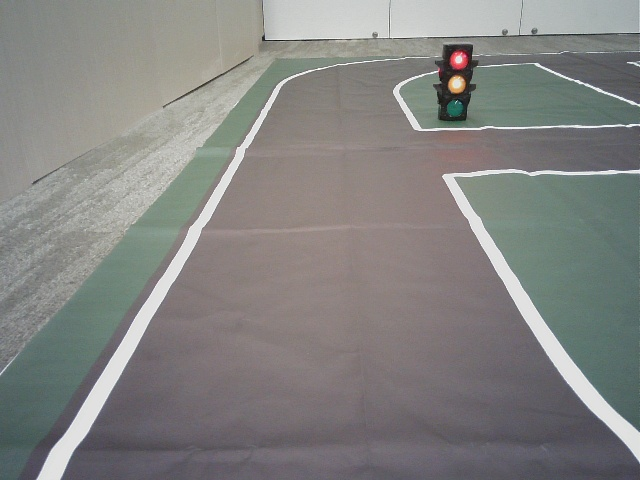red: (444, 49, 466, 117)
